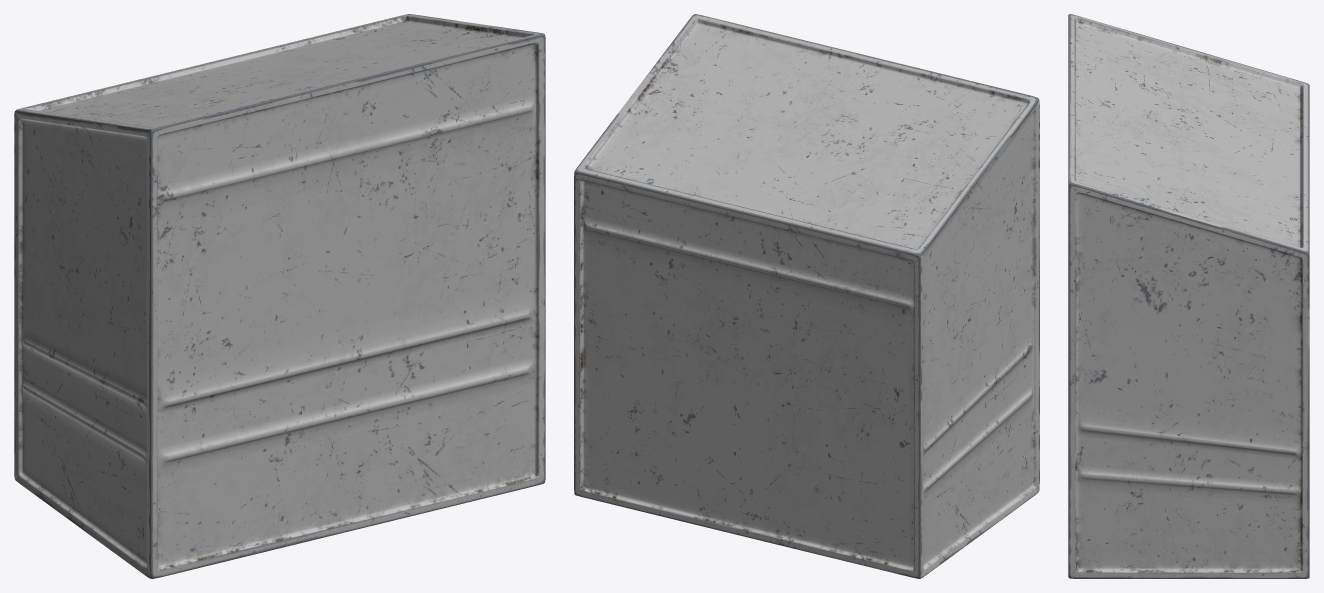
3 renders of one model, left to right at view 1: azimuth 30°, elevation 25°; view 2: azimuth 150°, elevation 25°; view 3: azimuth 270°, elevation 25°, orthographic. The views are drawn at different scales.
Parts seen in each view (by area): view 1: FG Steel Box 1.Shape; view 2: FG Steel Box 1.Shape; view 3: FG Steel Box 1.Shape.
Boxes of the visible parts, x1,y1,x2,y2 form: FG Steel Box 1.Shape: (14, 14, 545, 578); FG Steel Box 1.Shape: (574, 14, 1039, 578); FG Steel Box 1.Shape: (1068, 14, 1309, 578).
Bounding box in the file's own units: 71.54 × 77.78 × 42.95.
Materials: 1 (1 with a texture image).
